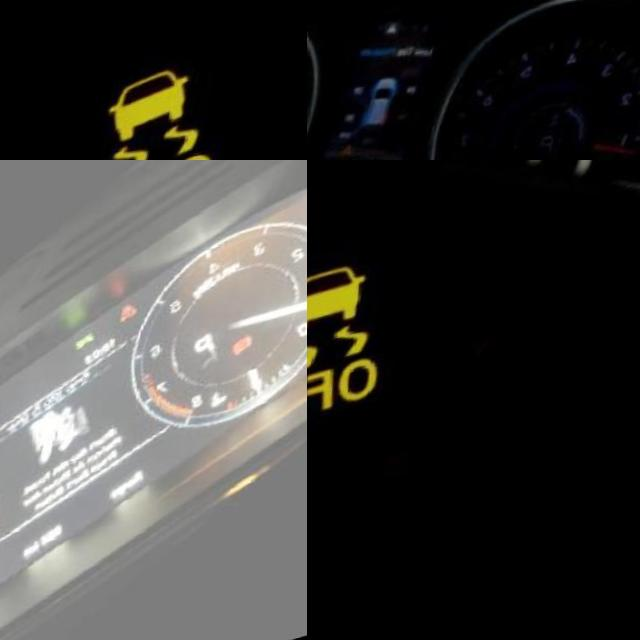Engine cooling system: (224, 392, 255, 421)
